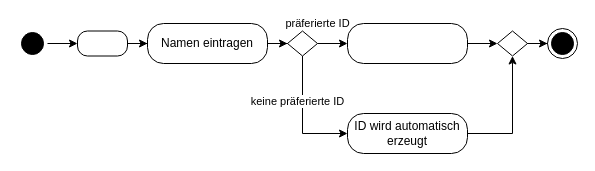
The diagram is 595 pixels wide and 171 high, and some of its shapes have lost their labels. The box of each missing label's shape, as (x1, y1, x2, y2) in pixels:
eigene ID eintragen: (346, 22, 468, 64)
login: (76, 30, 128, 56)
